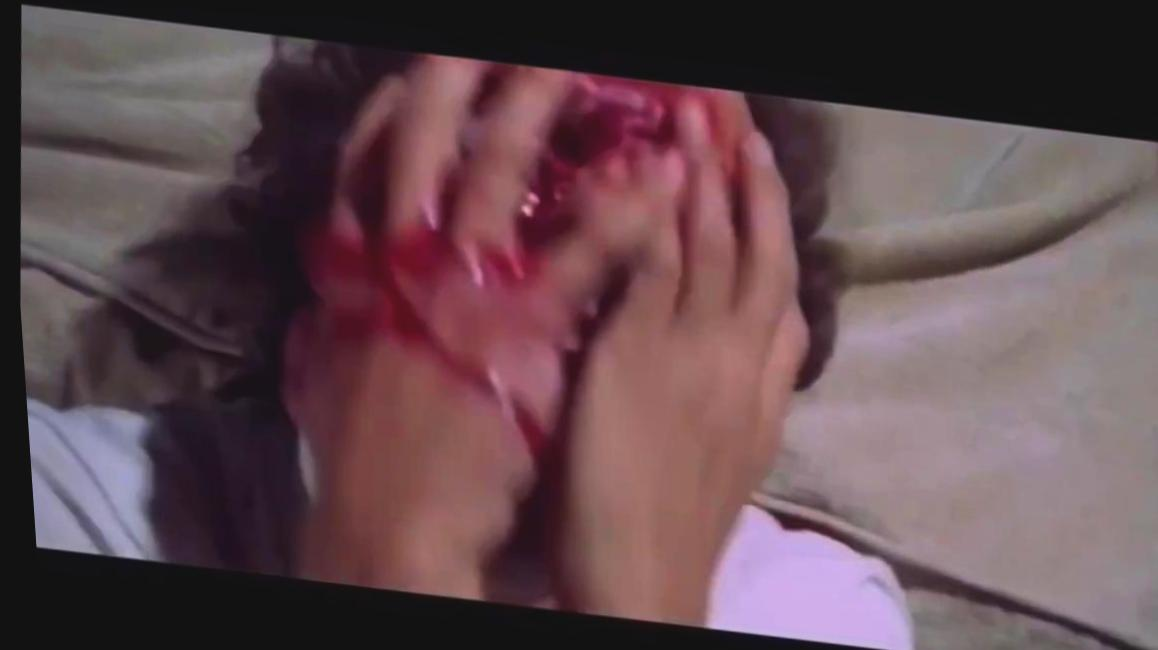Fire: (279, 51, 731, 457)
